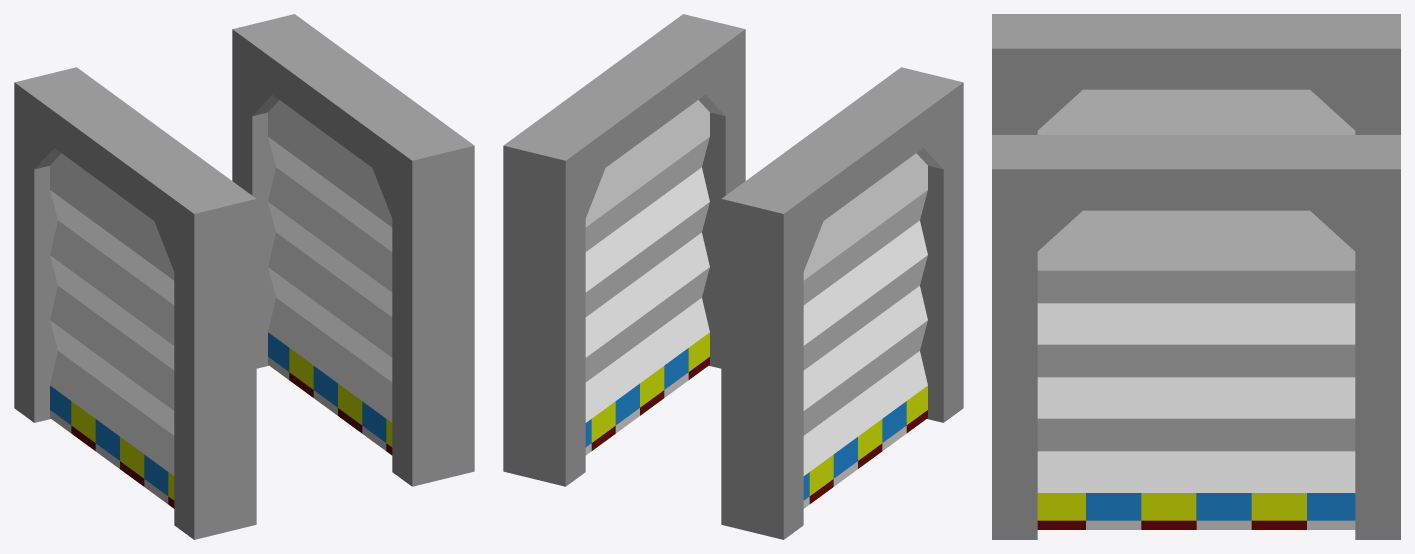
Rendered from Containment1.fbx_DoorOffLOCK.fbx.
3 views of the same model, side by side, from view 1: azimuth 30°, elevation 25°; view 2: azimuth 150°, elevation 25°; view 3: azimuth 270°, elevation 25° (orthographic). The views are drawn at different scales.
Parts seen in each view (by area): view 1: DoorwayOff.006, DoorwayOff.008, DoorOff.006, DoorOff.008; view 2: DoorwayOff.006, DoorwayOff.008, DoorOff.006, DoorOff.008; view 3: DoorOff.008, DoorwayOff.008, DoorwayOff.006, DoorOff.006.
Part boxes in pixels (bbox=[...]): DoorwayOff.006: bbox=[14, 67, 256, 539]; DoorwayOff.008: bbox=[232, 14, 474, 486]; DoorOff.006: bbox=[50, 153, 174, 508]; DoorOff.008: bbox=[268, 100, 392, 455]; DoorwayOff.006: bbox=[721, 67, 963, 539]; DoorwayOff.008: bbox=[503, 14, 745, 486]; DoorOff.006: bbox=[803, 153, 927, 508]; DoorOff.008: bbox=[585, 100, 709, 455]; DoorOff.008: bbox=[1037, 210, 1355, 529]; DoorwayOff.008: bbox=[992, 135, 1400, 539]; DoorwayOff.006: bbox=[992, 14, 1400, 134]; DoorOff.006: bbox=[1037, 89, 1355, 134].
Bounding box in the file's own units: 270 × 300 × 300.
